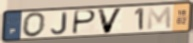1: (133, 7, 145, 32)
J: (50, 12, 68, 36)
M: (146, 5, 173, 32)
O: (22, 12, 48, 38)
P: (71, 9, 98, 36)
V: (96, 7, 125, 35)
